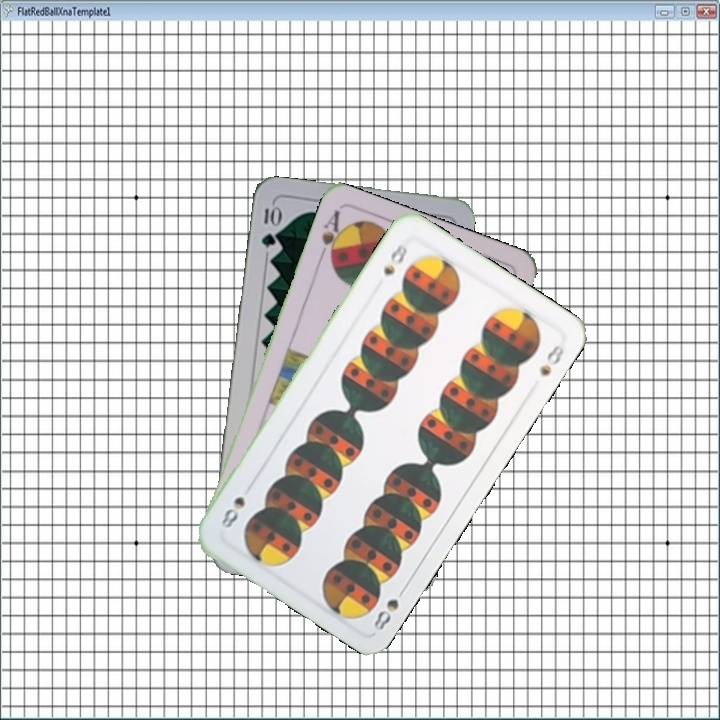G10: (257, 201, 281, 250)
S8: (369, 581, 410, 633), (379, 239, 410, 278)
SA: (314, 206, 347, 267)
